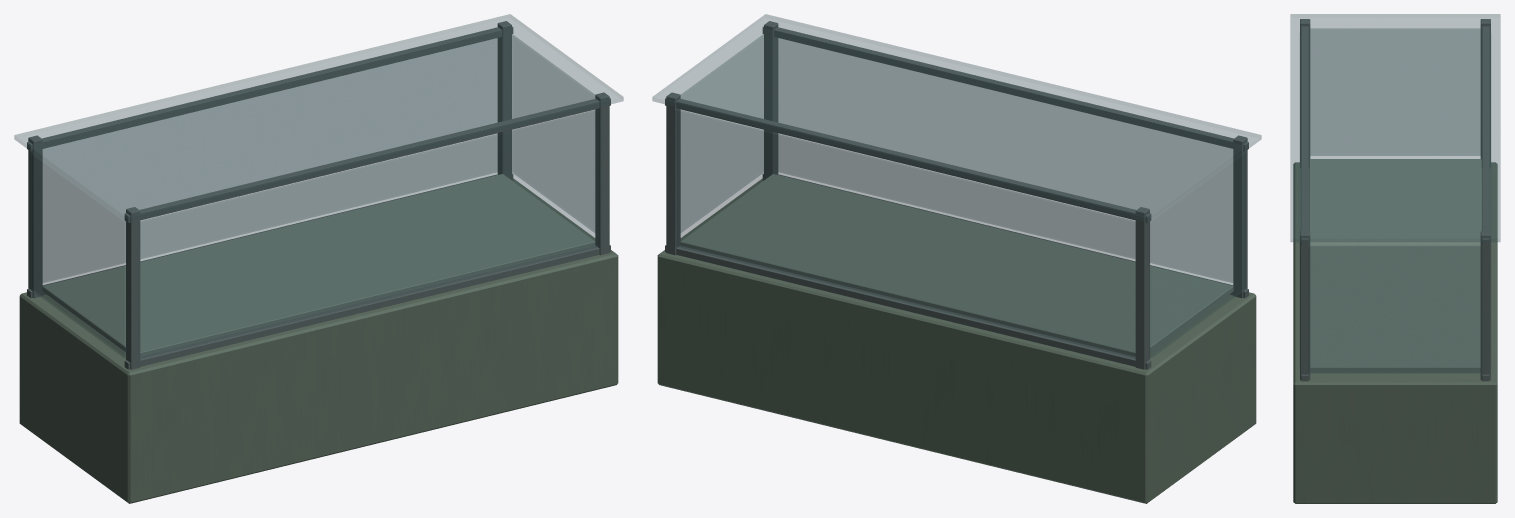
File: glazed_display_case.glb
3 views of the same model, side by side, from view 1: azimuth 30°, elevation 25°; view 2: azimuth 150°, elevation 25°; view 3: azimuth 270°, elevation 25° (orthographic). The views are drawn at different scales.
Parts seen in each view (by area): view 1: glazed_display_case; view 2: glazed_display_case; view 3: glazed_display_case.
Part boxes in pixels (x1,y1,x2,y2): glazed_display_case: [14, 14, 623, 503]; glazed_display_case: [652, 14, 1261, 503]; glazed_display_case: [1290, 14, 1500, 503].
Bounding box in the file's own units: 1.82 × 1.01 × 0.72.
Materials: 5 (5 with a texture image).
